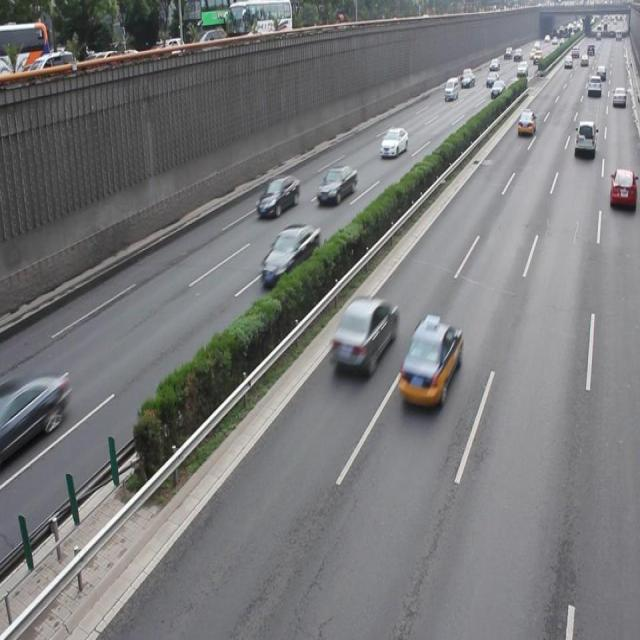car: (395, 318, 462, 408), (1, 371, 68, 460), (331, 296, 396, 376), (260, 222, 320, 288), (255, 174, 300, 218), (316, 165, 357, 205), (608, 166, 640, 210)
